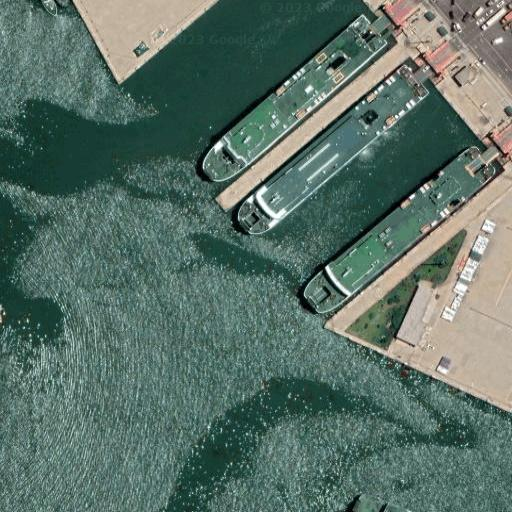building: (302, 261, 358, 318), (396, 285, 437, 345), (414, 33, 461, 79)
